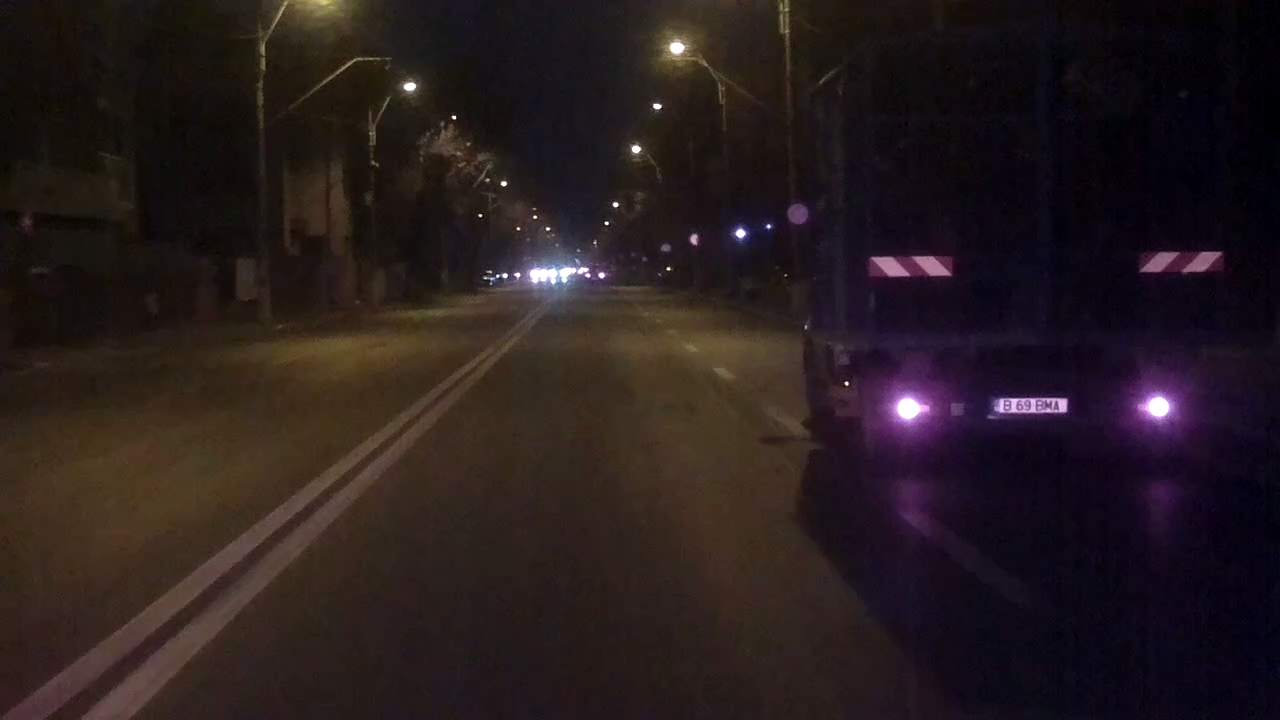license-plate: (990, 395, 1070, 416)
